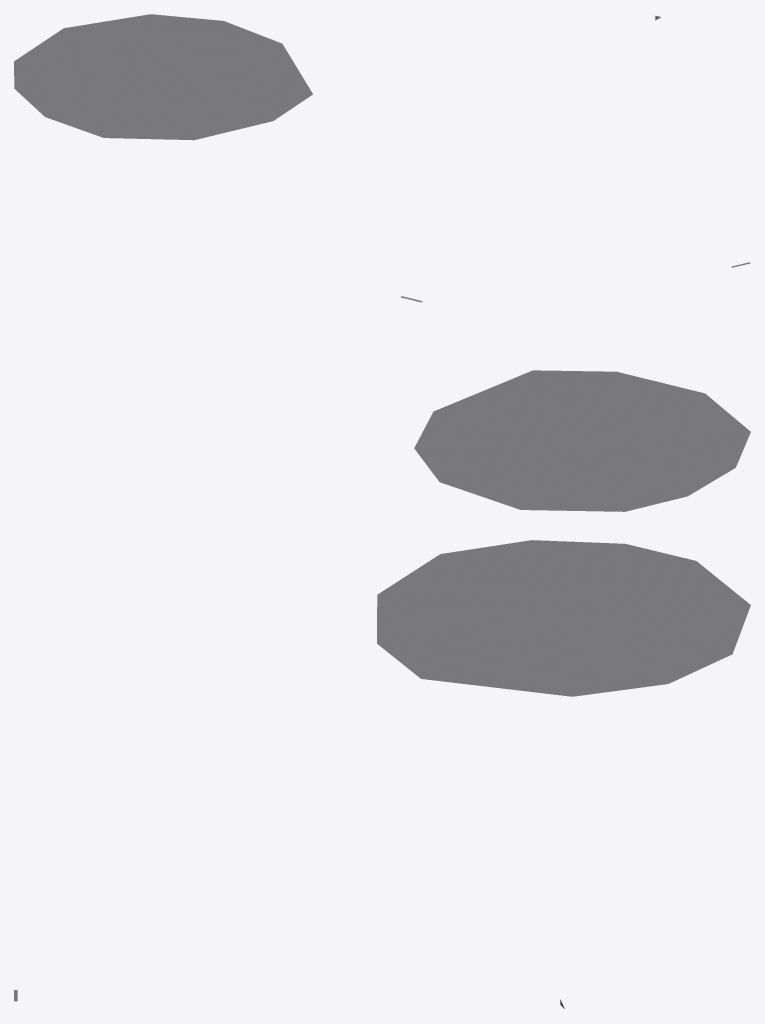
Rendered from kd_stage_136599_19_2_bounded.glb.
3 views of the same model, one above another, from view 1: azimuth 30°, elevation 25°; view 2: azimuth 150°, elevation 25°; view 3: azimuth 270°, elevation 25° (orthographic). The views are drawn at different scales.
Visible parts, largest first — view 1: kd_stage_136599_19_2_bounded; view 2: kd_stage_136599_19_2_bounded; view 3: kd_stage_136599_19_2_bounded.
Part boxes in pixels (left/top/right/bottom): kd_stage_136599_19_2_bounded: left=14, top=14, right=750, bottom=267; kd_stage_136599_19_2_bounded: left=400, top=296, right=750, bottom=511; kd_stage_136599_19_2_bounded: left=14, top=540, right=750, bottom=1008.
Size of the model in its own units: 115 by 20.83 by 92.19.
1 material, 1 textured.
